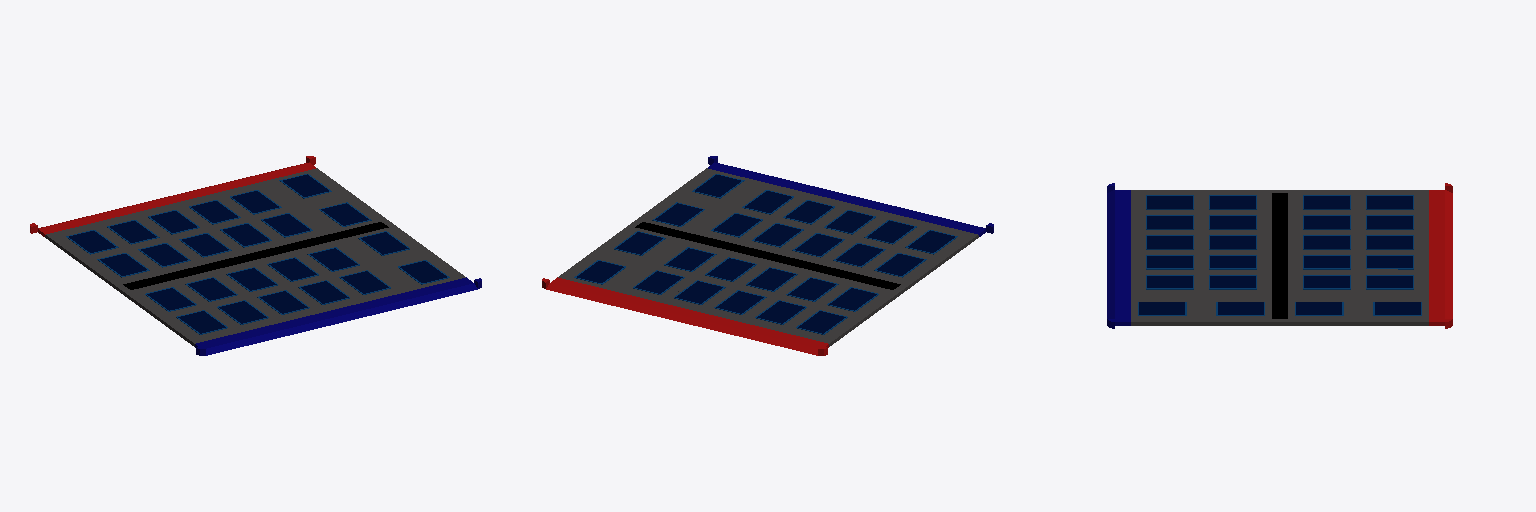
File: Table.obj
3 views of the same model, side by side, from view 1: azimuth 30°, elevation 25°; view 2: azimuth 150°, elevation 25°; view 3: azimuth 270°, elevation 25° (orthographic).
Parts seen in each view (by area): view 1: mergedBlocks; view 2: mergedBlocks; view 3: mergedBlocks.
Boxes of the visible parts, box(x1,y1,x2,y2) form: mergedBlocks: box(30, 156, 481, 355); mergedBlocks: box(542, 156, 993, 355); mergedBlocks: box(1107, 183, 1452, 328).
Size of the model in its own units: 21 by 0.48 by 22.